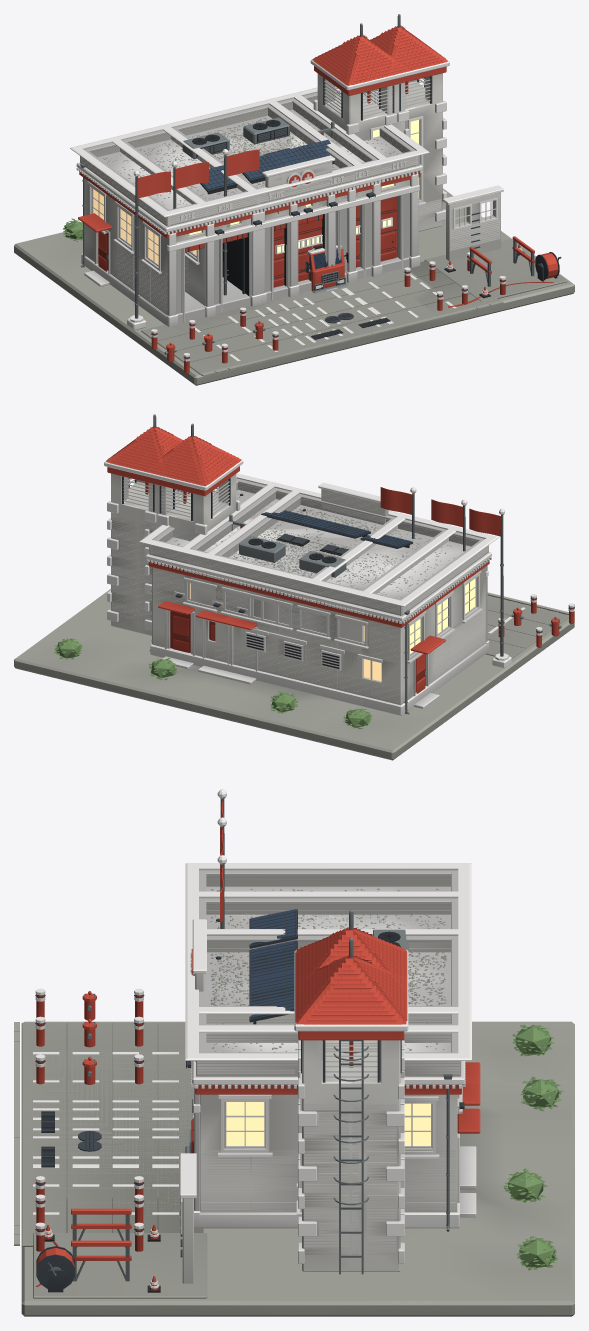
File: fire-station-near.glb
3 renders of one model, top to bottom at view 1: azimuth 30°, elevation 25°; view 2: azimuth 150°, elevation 25°; view 3: azimuth 270°, elevation 25°, orthographic. The views are drawn at different scales.
Visible parts, largest first — view 1: Station3Near, Station2Near, Station1Near, EngineNear, Station1Near.Flag.0, Station2Near.Flag.0, Station3Near.Flag.0; view 2: Station3Near, Station1Near, Station2Near, Station1Near.Flag.0, Station3Near.Flag.0, Station2Near.Flag.0; view 3: Station3Near, Station1Near, Station2Near.
Part boxes in pixels (bbox=[...]): Station3Near: bbox=[70, 14, 567, 376]; Station2Near: bbox=[110, 23, 467, 367]; Station1Near: bbox=[14, 99, 574, 385]; EngineNear: bbox=[305, 243, 348, 293]; Station1Near.Flag.0: bbox=[226, 149, 259, 176]; Station2Near.Flag.0: bbox=[175, 162, 208, 188]; Station3Near.Flag.0: bbox=[138, 171, 170, 198]; Station3Near: bbox=[104, 414, 574, 715]; Station1Near: bbox=[14, 482, 574, 760]; Station2Near: bbox=[142, 423, 536, 706]; Station1Near.Flag.0: bbox=[380, 487, 412, 514]; Station3Near.Flag.0: bbox=[469, 508, 500, 536]; Station2Near.Flag.0: bbox=[431, 499, 462, 527]; Station3Near: bbox=[14, 789, 480, 1298]; Station1Near: bbox=[14, 855, 574, 1316]; Station2Near: bbox=[14, 817, 480, 1223].
Bounding box in the file's own units: 17.95 × 9.6 × 14.8.
